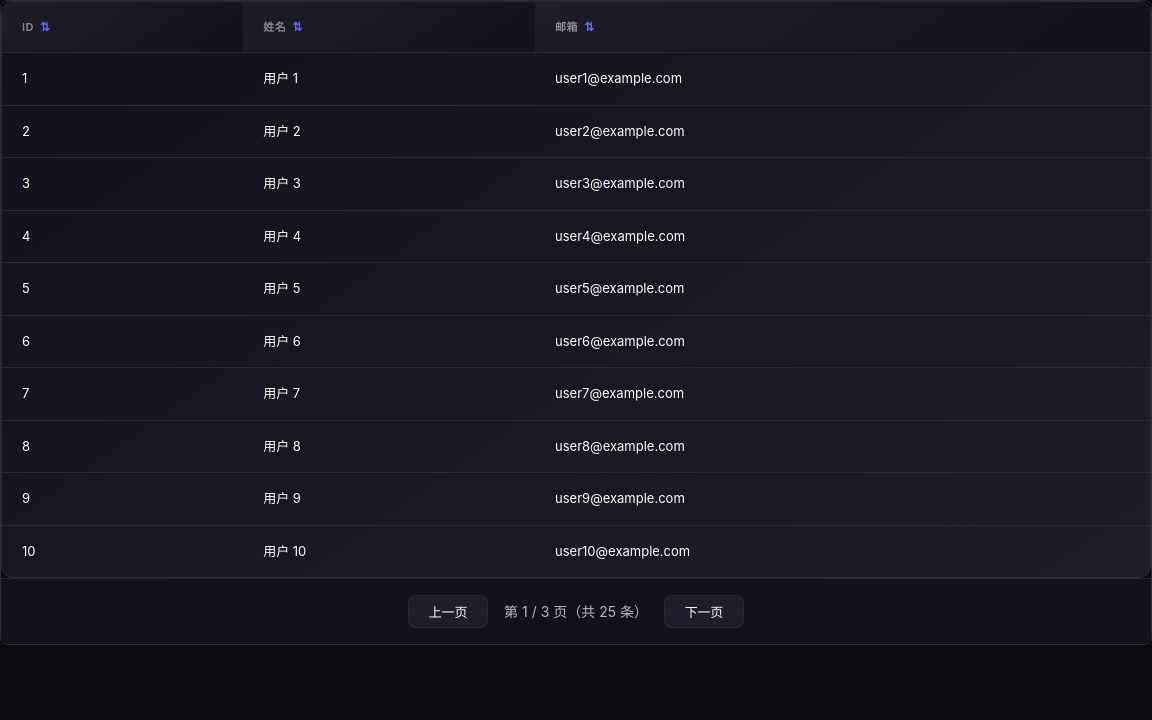
it: DataTable › 分页功能 › 上一页按钮应该切换到上一页
The image size is (1152, 720).
# 先切换到第 2 页
Click the button "下一页".
click(704, 612)  # box [664, 595, 744, 628]
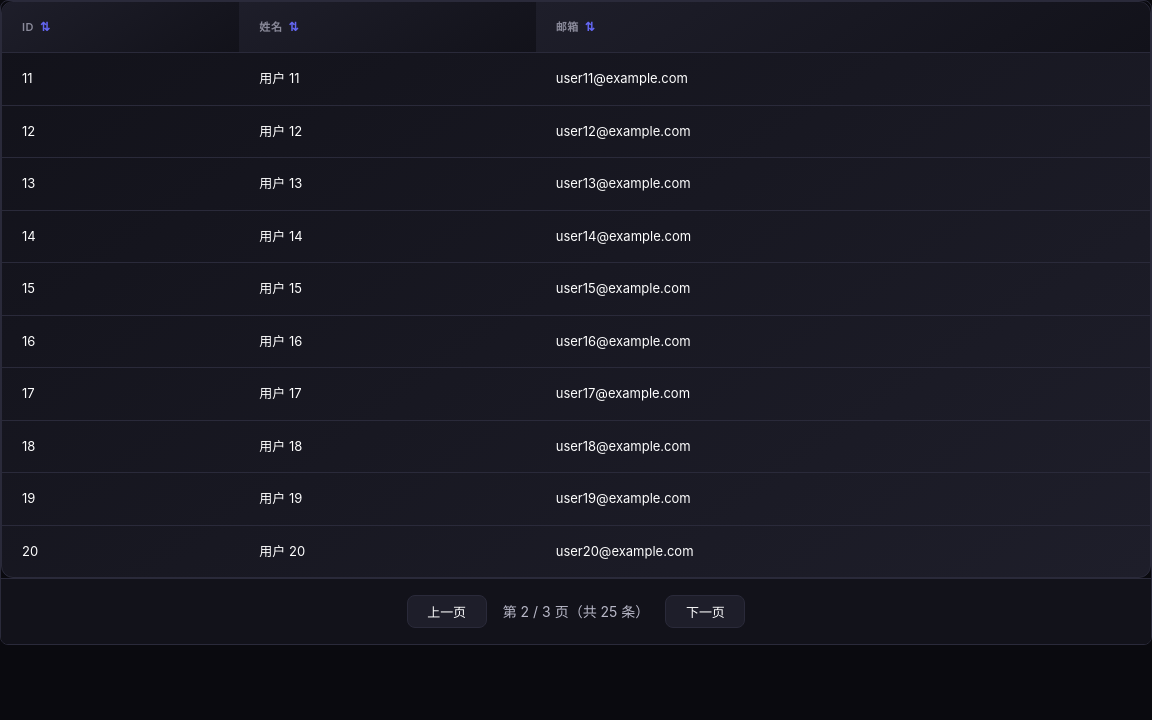
Expected: the text "第 2 / 3 页（共 25 条）" is shown, [503, 601, 649, 622]
Click the button "上一页".
click(447, 612)  # box [407, 595, 487, 628]
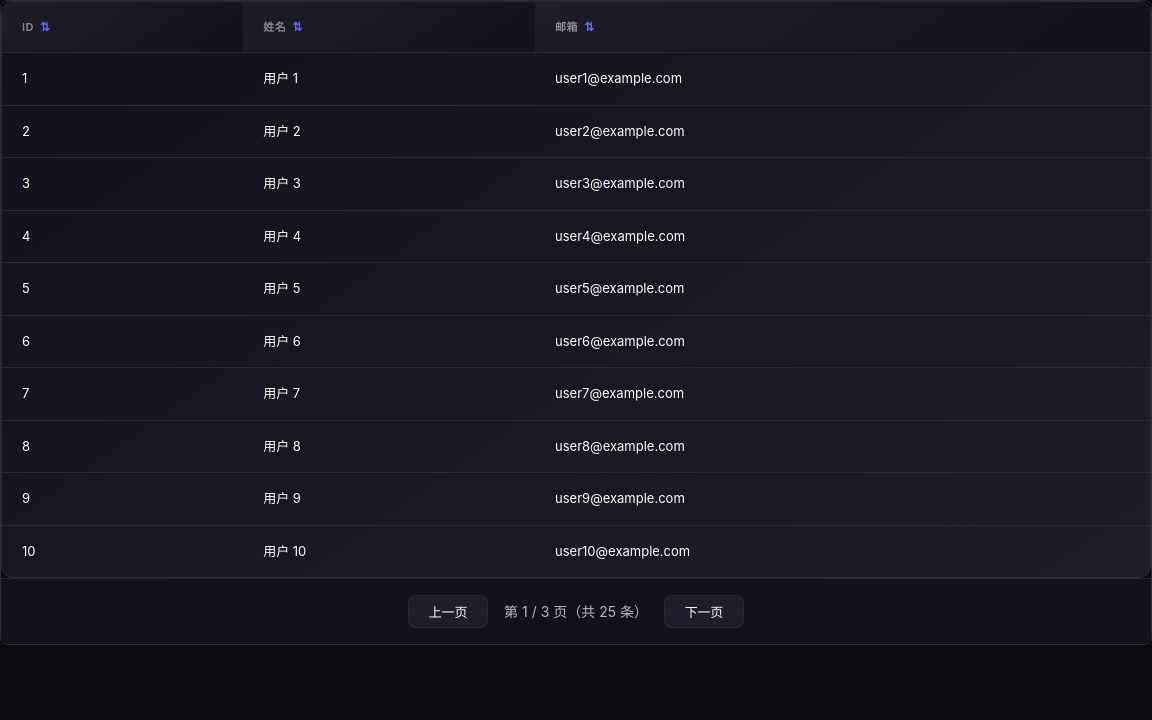
Expected: the text "第 1 / 3 页（共 25 条）" is shown, [504, 601, 648, 622]
